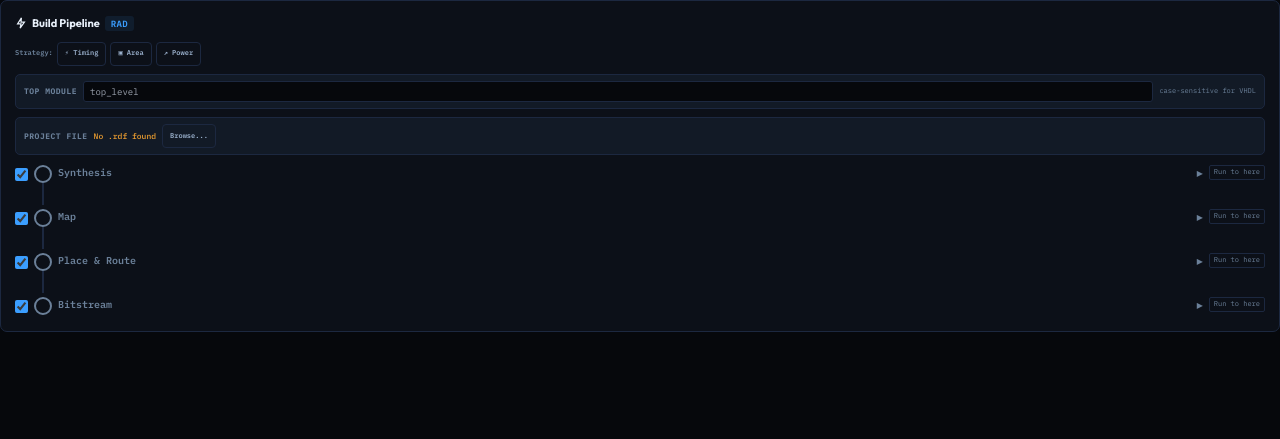
BuildPipeline › shows the Advanced expander when a stage is expanded
Click the text titled "Configure stage options" in the row of "Synthesis": (1200, 172) [1197,168,1203,178]
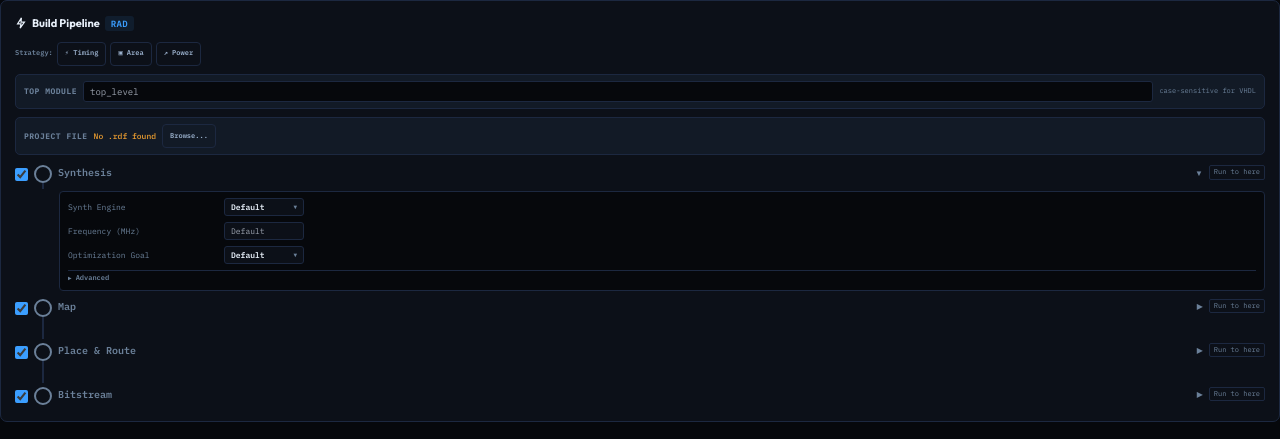
Expected: the text "Advanced" is shown, [76,273,109,282]
